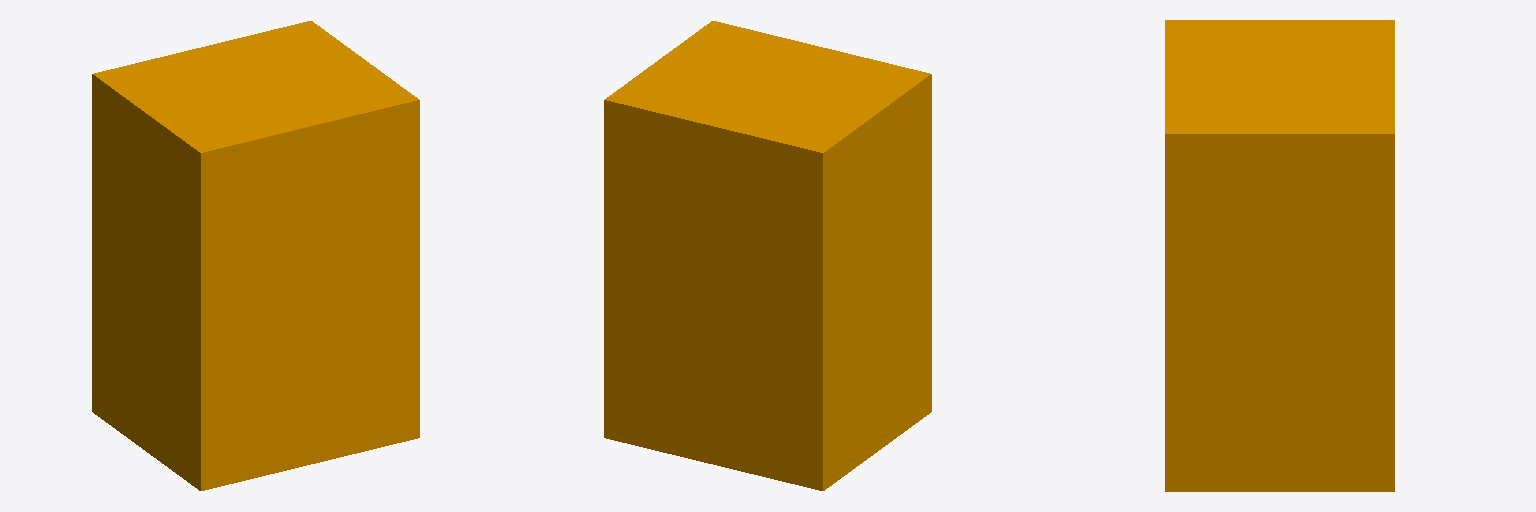
URDF robot description (bigbox):
<?xml version="1.0"?>
<robot name="bigbox">
<link name="bigbox">
    <visual>
      <geometry>
        <mesh filename="package://uwds3/models/cad_models/obj/bigbox.obj"/>
      </geometry>
      <origin rpy="0 0 0" xyz="0 0 0"/>
    </visual>
    <collision>
      <geometry>
      <box size="0.420 0.620 0.360"/> 
      </geometry>
      <origin rpy="0 0 0" xyz="0 0 -0"/>
      <contact_coefficients mu="1000.0" kp="0.00" kd="0.0"/>
    </collision>
   
    <inertial>
      <mass value="0.7"/>
      <inertia ixx="0.001" ixy="0.0" ixz="0.0"
               iyy="0.001" iyz="0.0"
               izz="0.001"/>
    </inertial>
</link>

</robot>

--- Render facts (derived) ---
The picture shows the robot from 3 angles, left to right: view 1: azimuth 30°, elevation 25°; view 2: azimuth 150°, elevation 25°; view 3: azimuth 270°, elevation 25°; orthographic projection.
Robot: bigbox — 1 links, 0 joints (none); root link bigbox; default pose: all joints at 0.
Visible links, largest first — view 1: bigbox; view 2: bigbox; view 3: bigbox.
Boxes of the visible links, bbox=[...] form: bigbox: bbox=[92, 21, 419, 490]; bigbox: bbox=[604, 21, 931, 490]; bigbox: bbox=[1165, 20, 1394, 491].
Size in the robot's own frame: 0.84 by 0.72 by 1.24 metres.
Meshes: 1 distinct files referenced, 1 mesh visuals loaded (1 OBJ).